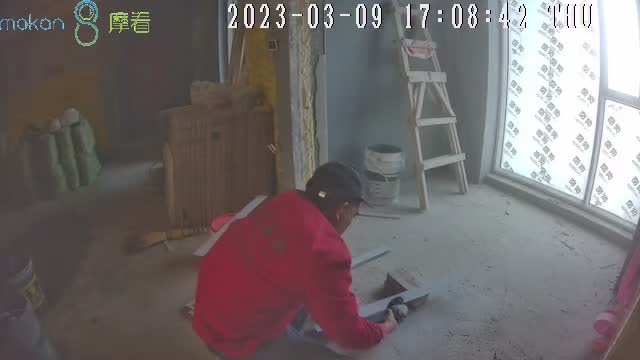people: (191, 162, 398, 360)
window: (496, 1, 640, 230)
